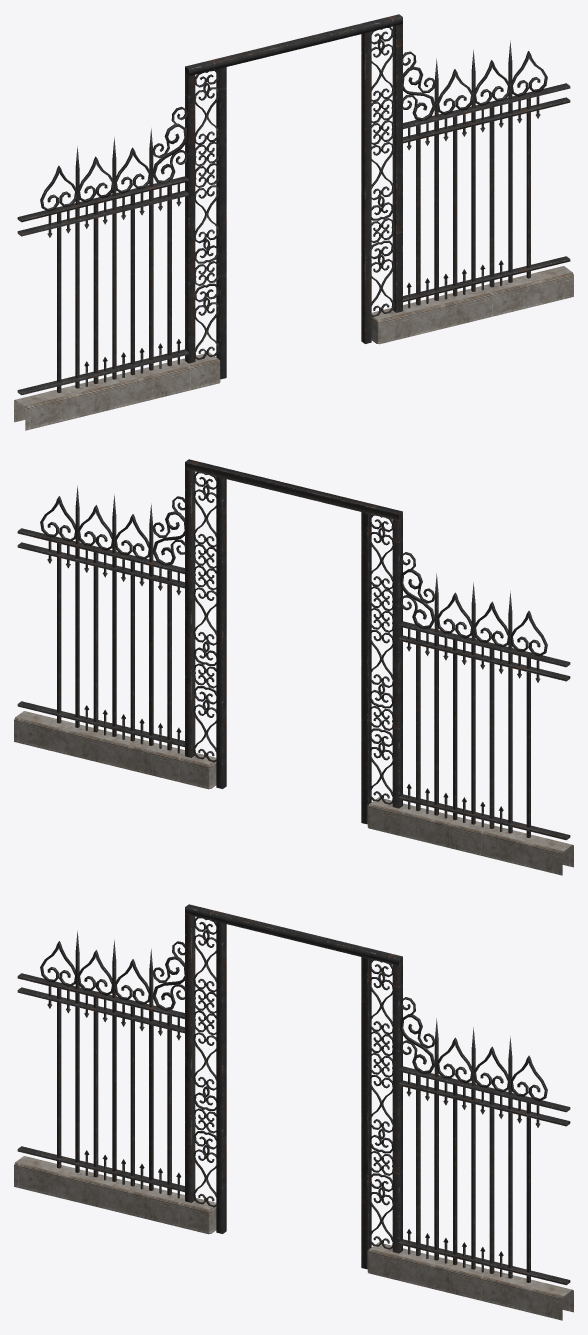
The picture shows the model from 3 angles, top to bottom: view 1: azimuth 30°, elevation 25°; view 2: azimuth 150°, elevation 25°; view 3: azimuth 330°, elevation 25°; orthographic projection.
Parts seen in each view (by area): view 1: SM_Fence02_LOD0; view 2: SM_Fence02_LOD0; view 3: SM_Fence02_LOD0.
Boxes of the visible parts, left/top/right/bottom form: SM_Fence02_LOD0: left=14, top=14, right=573, bottom=430; SM_Fence02_LOD0: left=14, top=459, right=573, bottom=875; SM_Fence02_LOD0: left=14, top=904, right=573, bottom=1320.
Size of the model in its own units: 6.62 by 3.66 by 0.2348.
2 materials, 2 textured.
